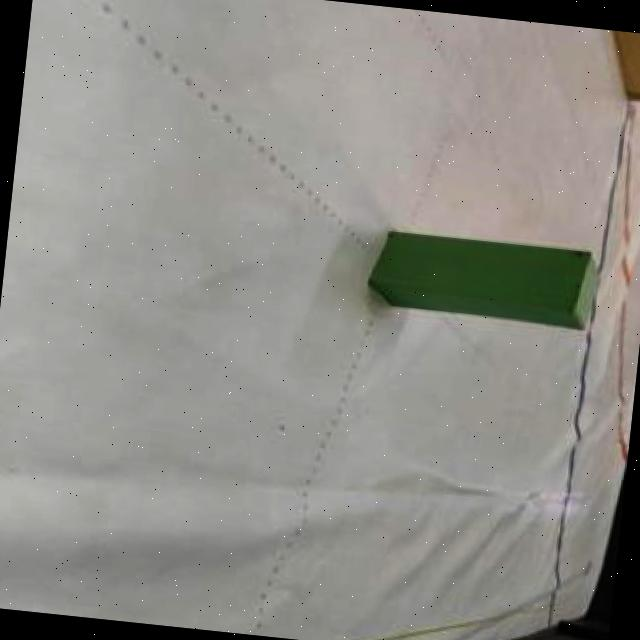greenbox: (362, 222, 606, 332)
